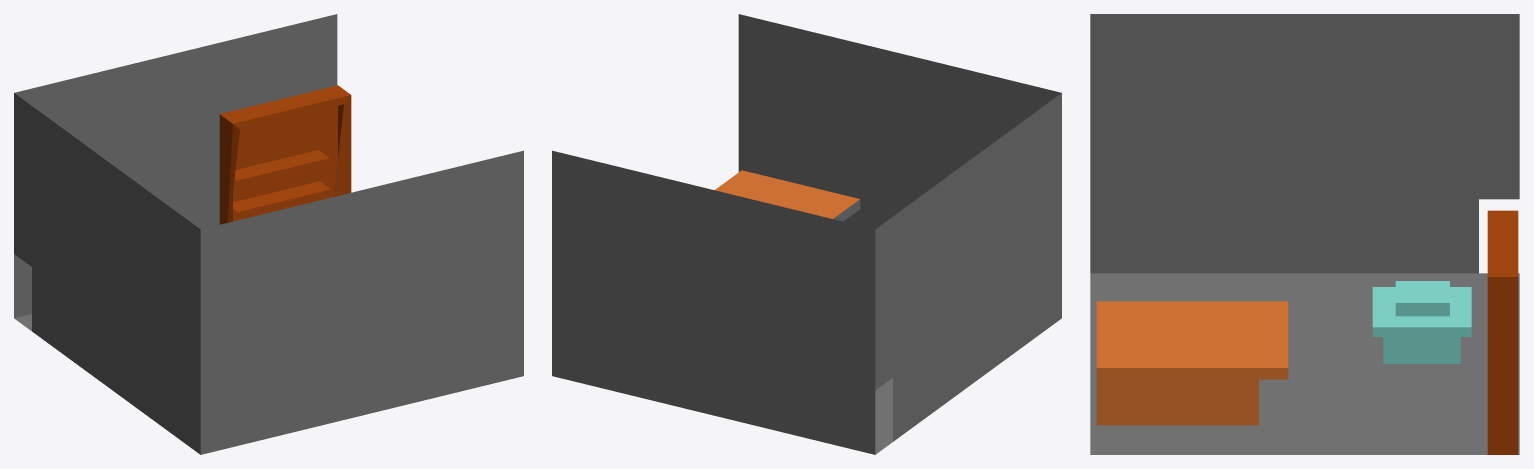
The model's file is Store.fbx.
3 renders of one model, left to right at view 1: azimuth 30°, elevation 25°; view 2: azimuth 150°, elevation 25°; view 3: azimuth 270°, elevation 25°, orthographic. The views are drawn at different scales.
Visible parts, largest first — view 1: Plane, Plane.003; view 2: Plane, Plane.001; view 3: Plane, Plane.001, Plane.004, Plane.003, Plane.002.
Boxes of the visible parts, <box> form: Plane: <box>14,14,523,454</box>; Plane.003: <box>219,85,351,224</box>; Plane: <box>552,14,1061,454</box>; Plane.001: <box>715,170,859,218</box>; Plane: <box>1090,14,1519,454</box>; Plane.001: <box>1096,301,1288,367</box>; Plane.004: <box>1096,368,1288,425</box>; Plane.003: <box>1487,210,1518,454</box>; Plane.002: <box>1372,281,1471,363</box>.
Size of the model in its own units: 300 by 200 by 300.
